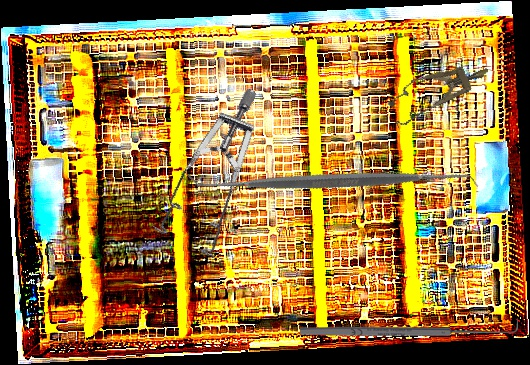Hook Surgical: (300, 317, 518, 339)
Spatula Surgical: (186, 34, 479, 327)
Speculum: (118, 86, 319, 277), (383, 51, 496, 130)
